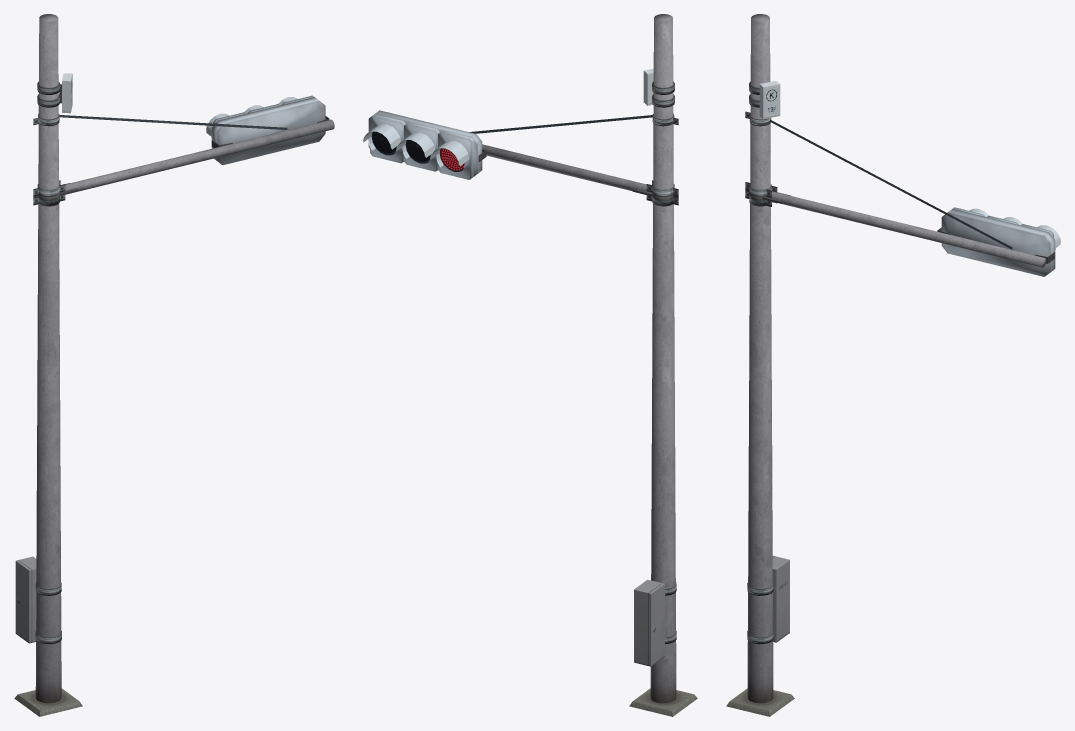
File: Traffic_light_Auto_1_R.fbx
3 views of the same model, side by side, from view 1: azimuth 30°, elevation 25°; view 2: azimuth 150°, elevation 25°; view 3: azimuth 330°, elevation 25° (orthographic).
Visible parts, largest first — view 1: 00_pillar, 35_Auto_light_2, 10_Auto_bar, 80_box_L, 86_box_SS, 20_Auto_latch_bar; view 2: 00_pillar, 35_Auto_light_2, 80_box_L, 10_Auto_bar, 86_box_SS, 20_Auto_latch_bar; view 3: 00_pillar, 35_Auto_light_2, 10_Auto_bar, 80_box_L, 86_box_SS, 20_Auto_latch_bar.
Part boxes in pixels (box(x1,y1,x2,y2)): 00_pillar: box(14, 14, 82, 716); 35_Auto_light_2: box(59, 95, 329, 165); 10_Auto_bar: box(65, 119, 334, 191); 80_box_L: box(15, 556, 61, 644); 86_box_SS: box(37, 73, 72, 113); 20_Auto_latch_bar: box(33, 180, 78, 206); 00_pillar: box(629, 14, 697, 716); 35_Auto_light_2: box(363, 110, 652, 179); 80_box_L: box(634, 579, 676, 666); 10_Auto_bar: box(482, 144, 646, 191); 86_box_SS: box(643, 68, 674, 107); 20_Auto_latch_bar: box(632, 180, 678, 206); 00_pillar: box(726, 14, 794, 716); 35_Auto_light_2: box(770, 119, 1060, 276); 10_Auto_bar: box(772, 191, 1046, 267); 80_box_L: box(747, 555, 789, 644); 86_box_SS: box(749, 80, 780, 119); 20_Auto_latch_bar: box(745, 182, 790, 206).
Size of the model in its own units: 3.51 by 7.5 by 0.719.
